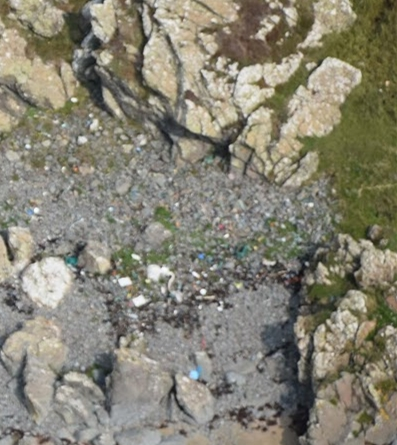together_barrel: (112, 236, 280, 312)
white_in_green: (47, 236, 99, 283), (170, 351, 217, 396)
